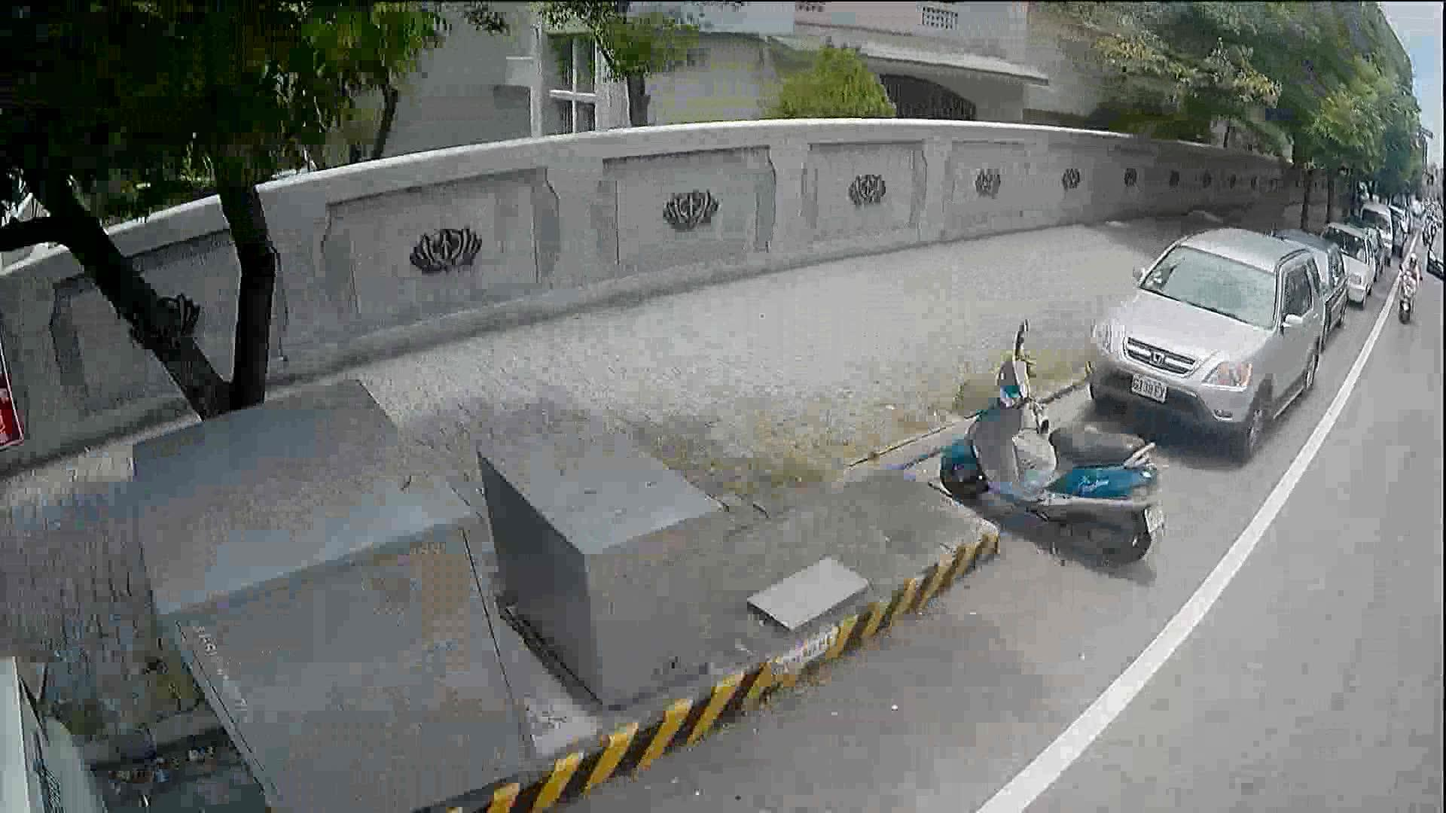person: (1400, 251, 1419, 279)
